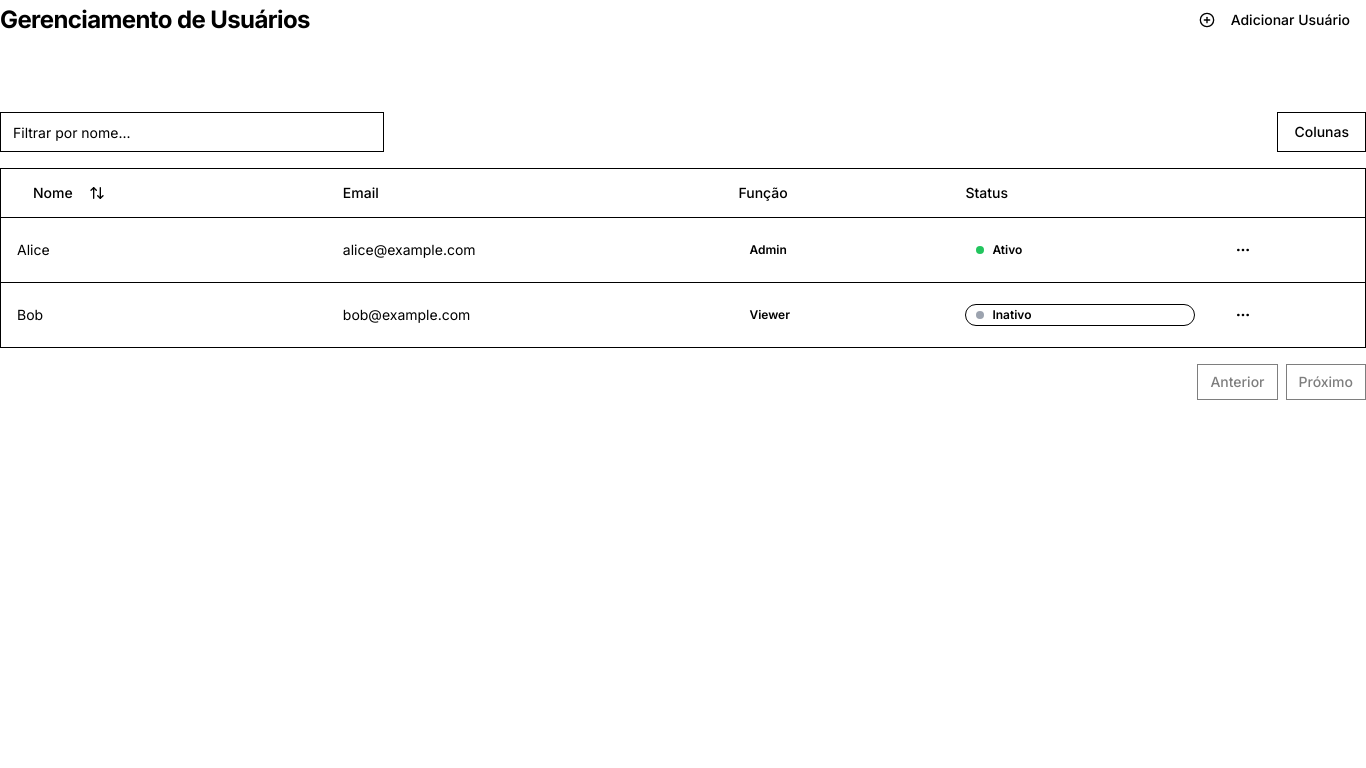
Scenario: UsersPageClient - Fluxo de Usuários › deve abrir o modal para adicionar um novo usuário
This screenshot has width=1366, height=768.
# Simula o clique no botão "Adicionar Usuário"
Click the button "Adicionar Usuário" at (1274, 20), box left=1183, top=0, right=1365, bottom=40
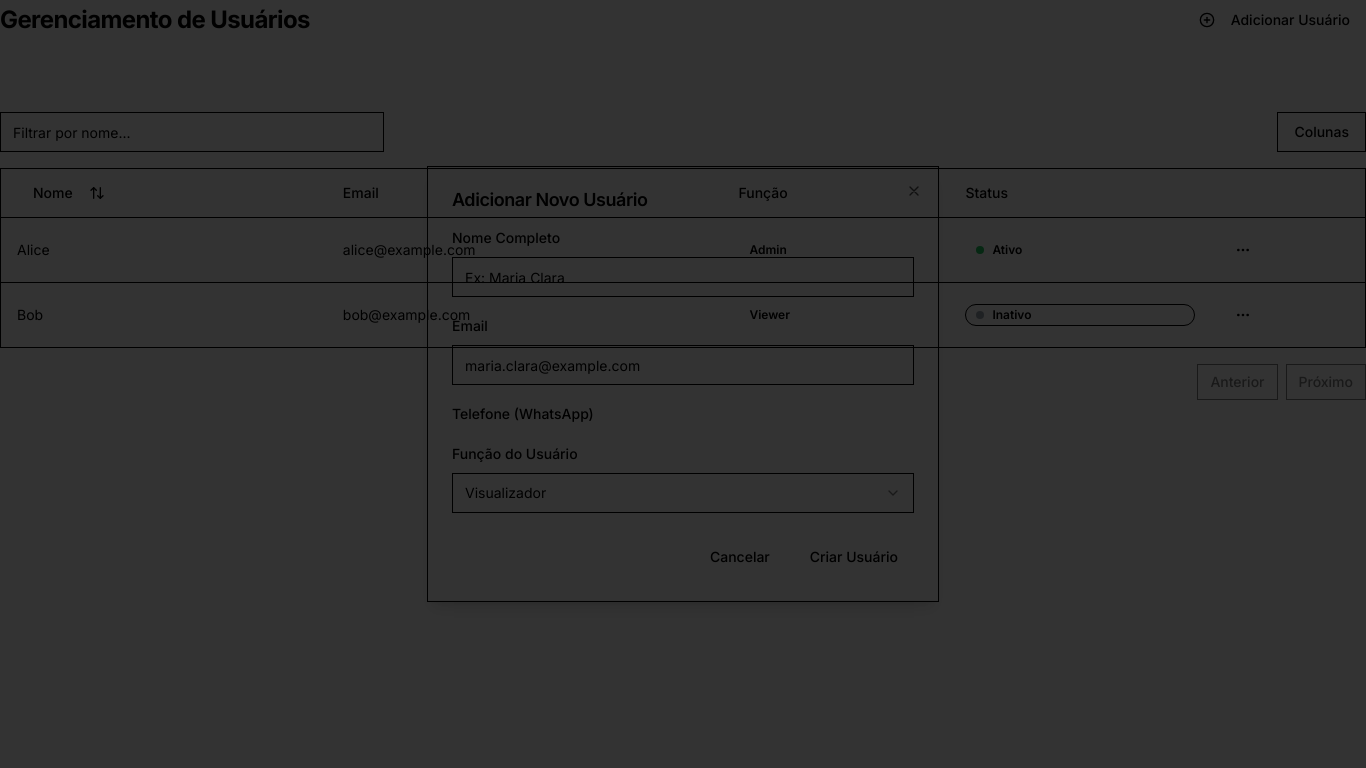
Expected: the heading "Adicionar Novo Usuário" is shown, left=452, top=189, right=648, bottom=210
